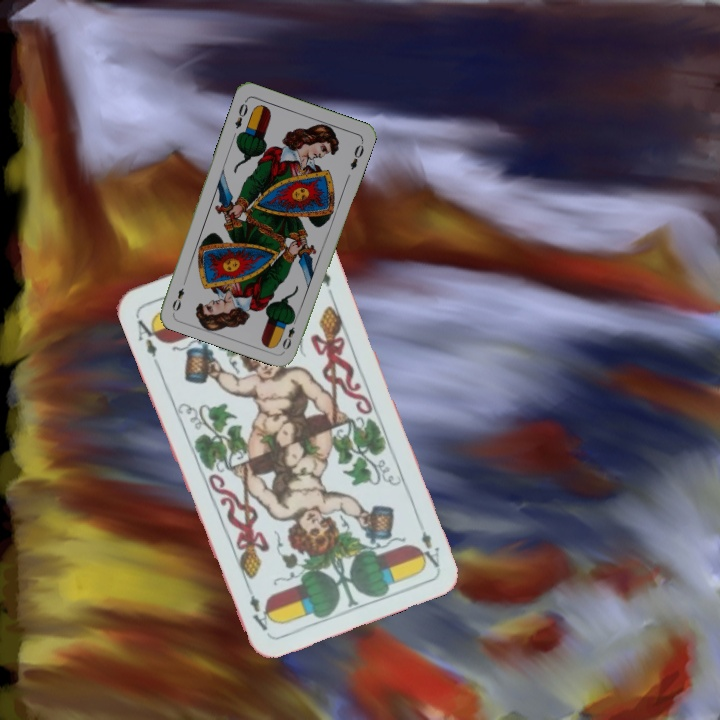EA: (413, 513, 442, 570), (131, 311, 164, 360)
EO: (278, 313, 300, 353), (231, 96, 250, 131)
